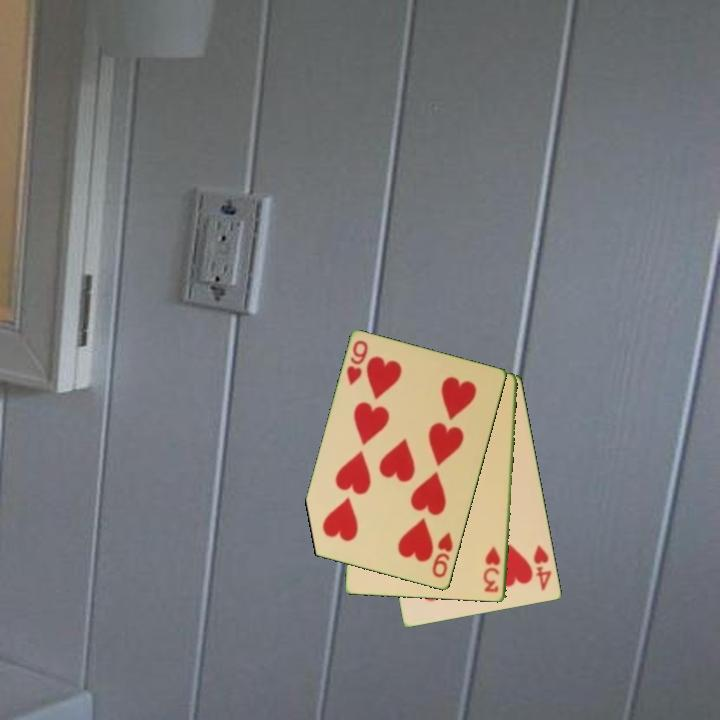3h: (481, 543, 503, 595)
4h: (530, 542, 555, 594)
9h: (343, 337, 371, 389), (429, 529, 456, 581)
